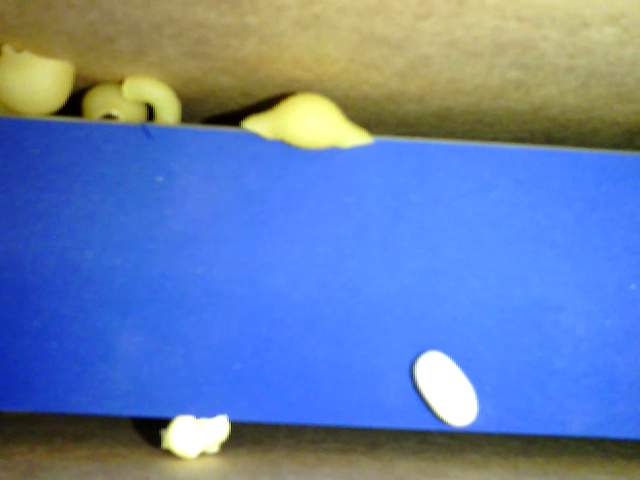elbow: (122, 78, 184, 128)
shell: (238, 89, 375, 148), (1, 46, 79, 116), (81, 82, 151, 123)
